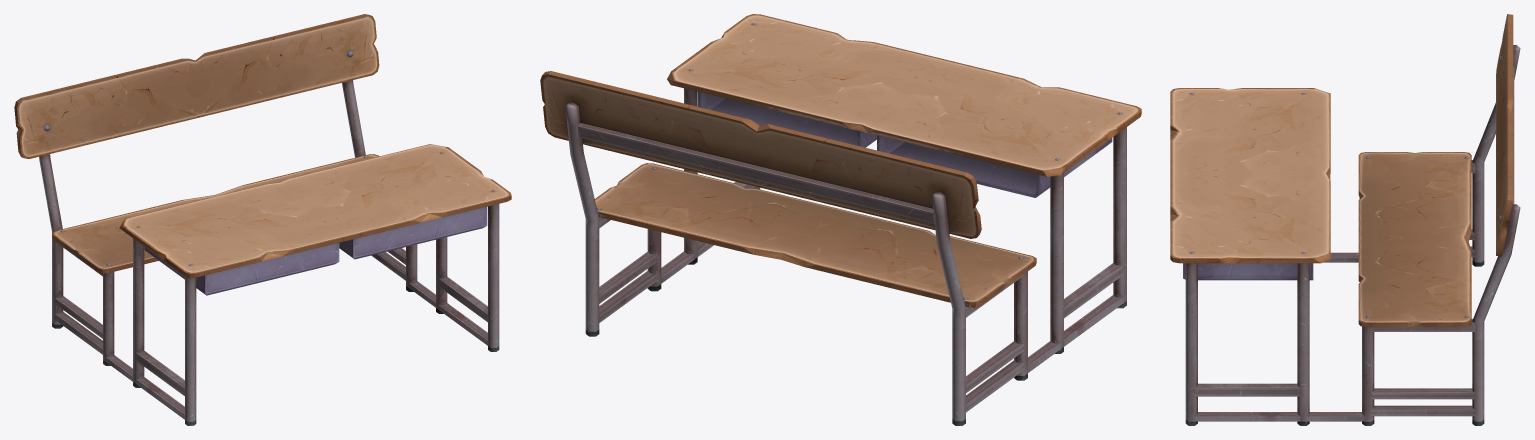
File: Desk 1.obj
The picture shows the model from 3 angles, left to right: view 1: azimuth 30°, elevation 25°; view 2: azimuth 150°, elevation 25°; view 3: azimuth 270°, elevation 25°; orthographic projection. The views are drawn at different scales.
Parts seen in each view (by area): view 1: Desk_1; view 2: Desk_1; view 3: Desk_1.
Part boxes in pixels (x1=…): Desk_1: x1=14, y1=14, x2=511, y2=425; Desk_1: x1=540, y1=14, x2=1141, y2=425; Desk_1: x1=1170, y1=14, x2=1520, y2=425.
Size of the model in its own units: 9.46 by 5.61 by 7.44.
